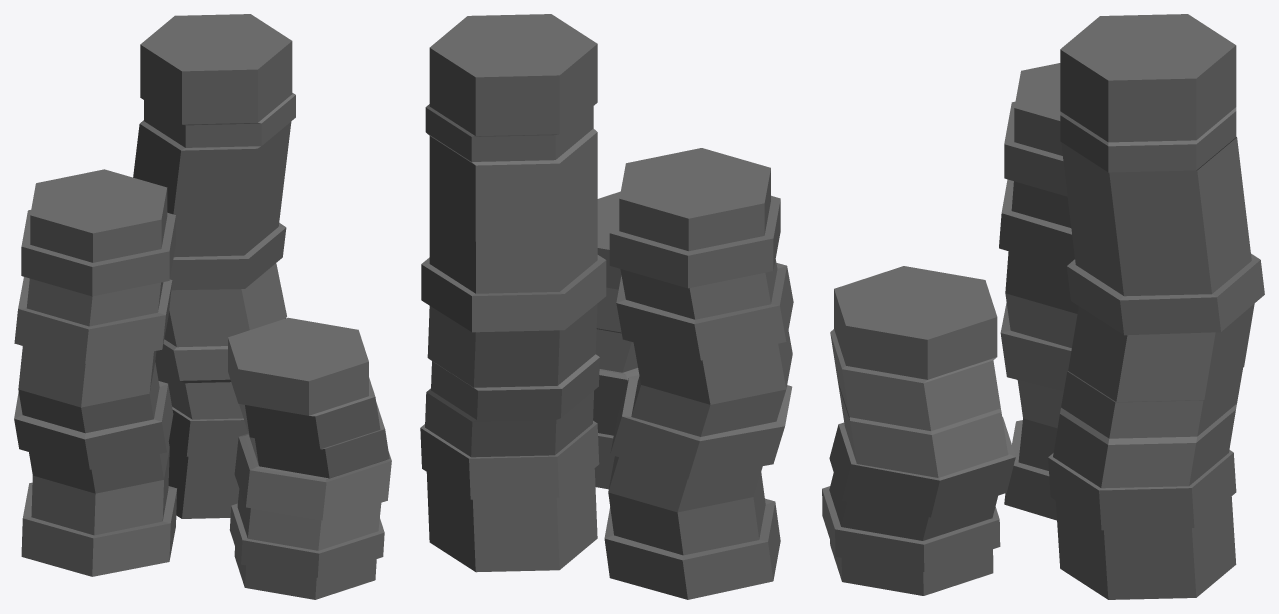
The model's file is SM_Gen_Prop_Coin_Stack_02.glb.
3 views of the same model, side by side, from view 1: azimuth 30°, elevation 25°; view 2: azimuth 150°, elevation 25°; view 3: azimuth 270°, elevation 25° (orthographic). The views are drawn at different scales.
Parts seen in each view (by area): view 1: SM_Gen_Prop_Coin_Stack_02; view 2: SM_Gen_Prop_Coin_Stack_02; view 3: SM_Gen_Prop_Coin_Stack_02.
Part boxes in pixels (left/top/right/bottom): SM_Gen_Prop_Coin_Stack_02: left=14, top=14, right=391, bottom=599; SM_Gen_Prop_Coin_Stack_02: left=420, top=14, right=793, bottom=599; SM_Gen_Prop_Coin_Stack_02: left=822, top=14, right=1264, bottom=599.
Bounding box in the file's own units: 0.299 × 0.4289 × 0.3307.
Materials: 1 (1 with a texture image).
